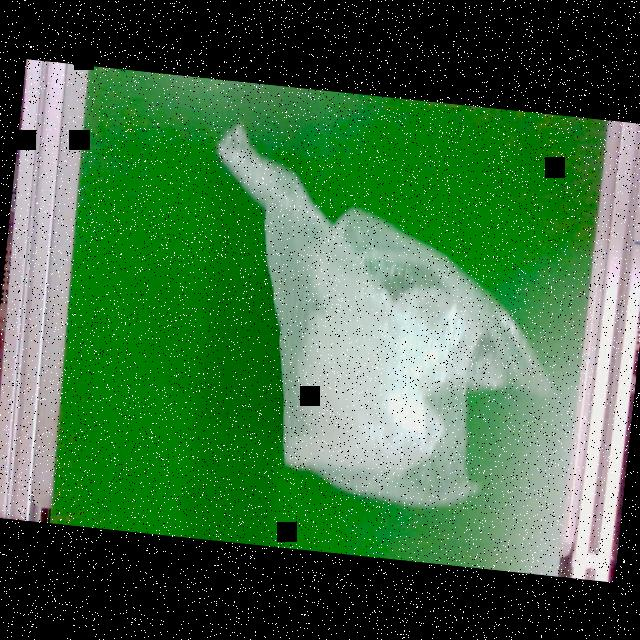scrap_plastic: (181, 114, 578, 518)
